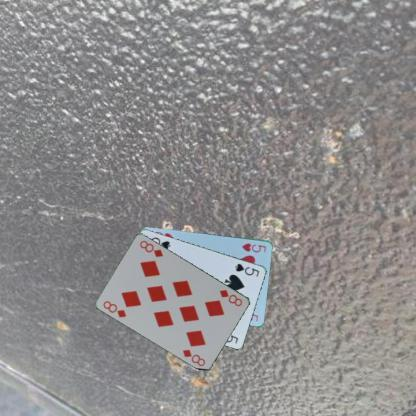5h: (240, 240, 268, 254)
5s: (233, 260, 260, 278)
8d: (217, 286, 244, 308), (101, 298, 128, 319)
